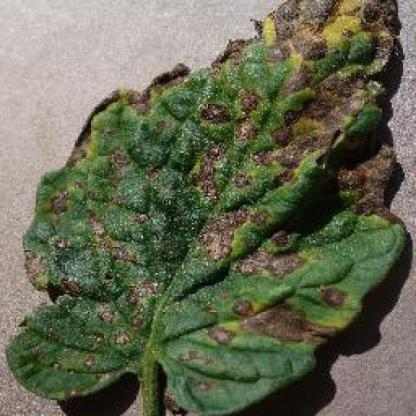Tomato_Blight: (7, 0, 402, 414)
